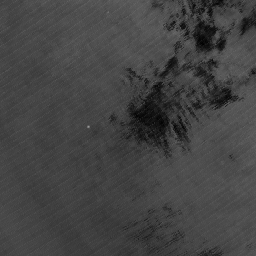Target: (84, 123, 92, 130)
